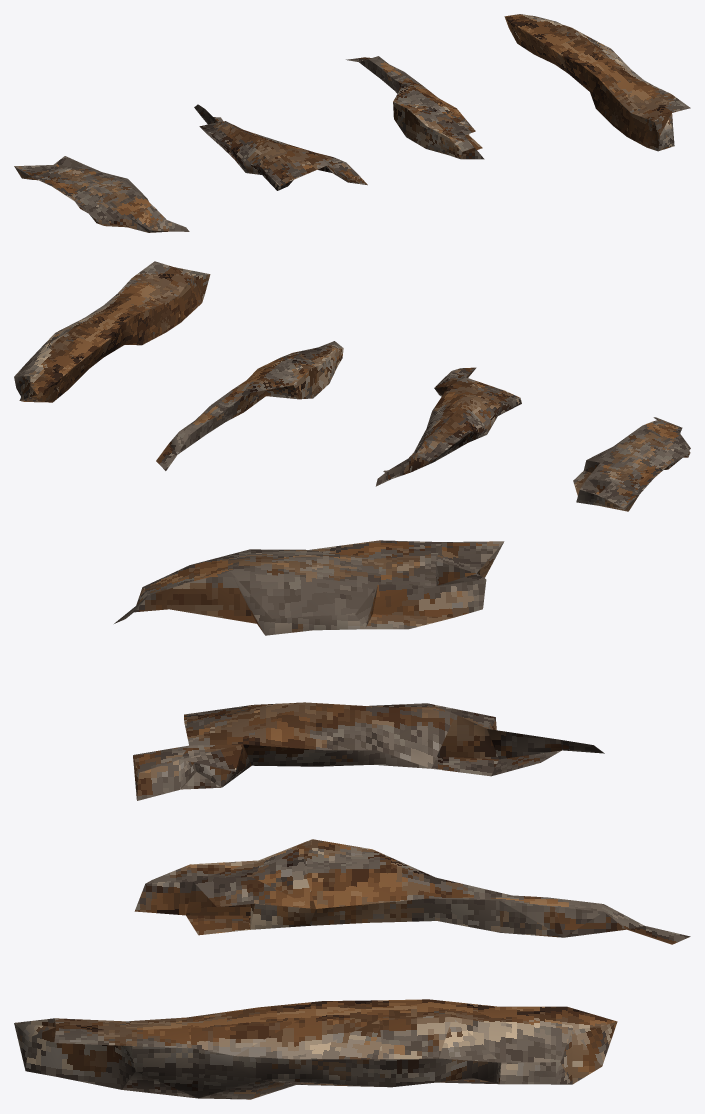
Rendered from bark_debris_01.glb.
3 views of the same model, one above another, from view 1: azimuth 30°, elevation 25°; view 2: azimuth 150°, elevation 25°; view 3: azimuth 270°, elevation 25° (orthographic). The views are drawn at different scales.
Parts seen in each view (by area): view 1: mesh; view 2: mesh; view 3: mesh.
Part boxes in pixels (x1,y1,x2,y2): mesh: [14, 14, 690, 232]; mesh: [14, 261, 690, 511]; mesh: [14, 540, 690, 1099].
Bounding box in the file's own units: 1.51 × 0.1122 × 0.8256.
1 material, 1 textured.
